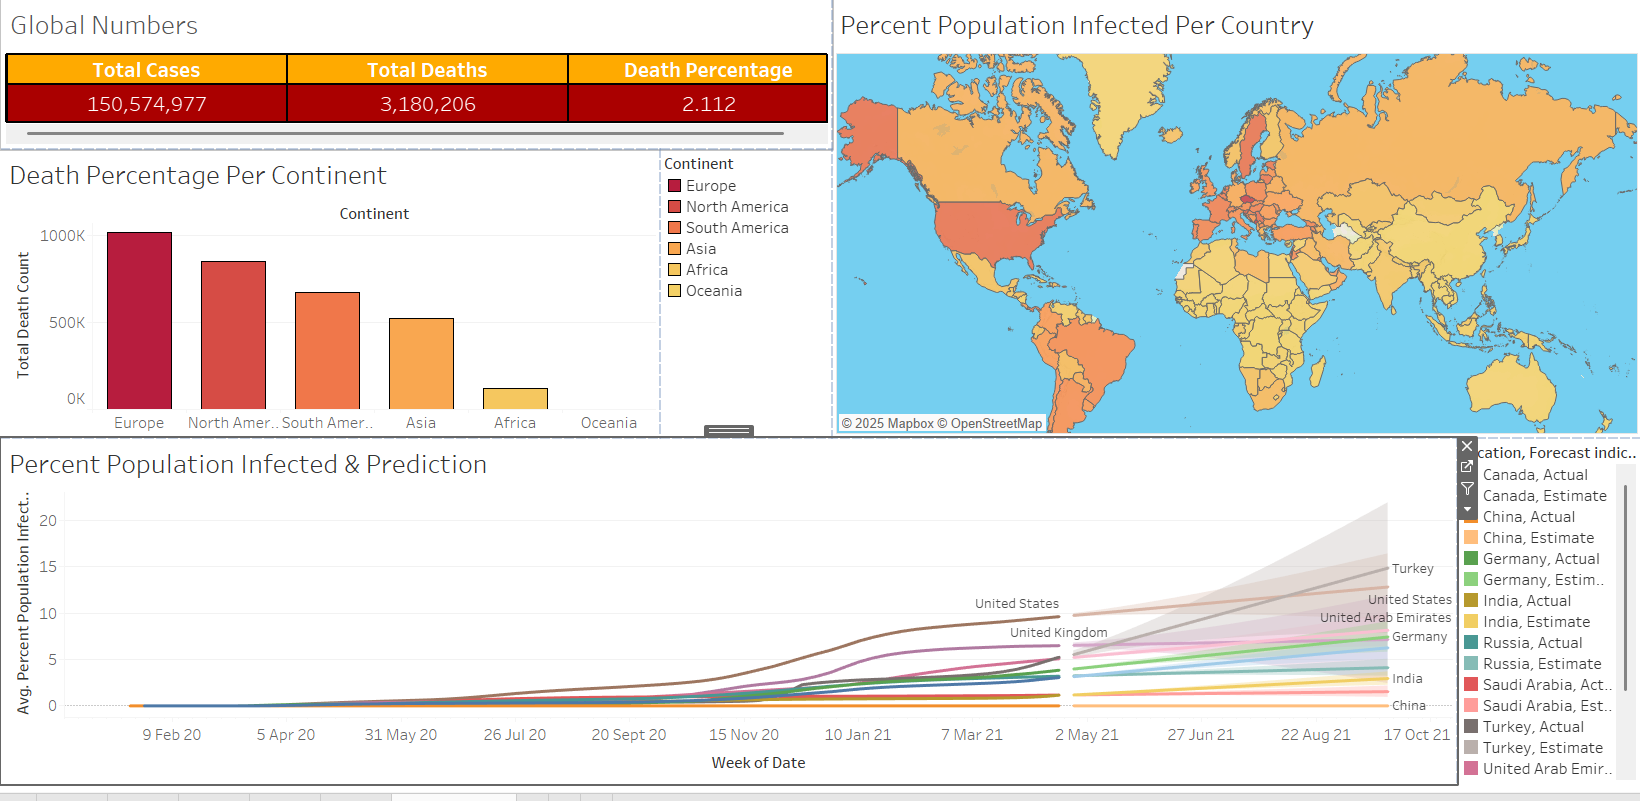

Layout of this report page (visuals, bound fields, positions):
{"tool":"tableau","page":{"name":"Dashboard 1","canvas":[1000,1000],"units":"permille","ordinal":0},"visuals":[{"type":"worksheet","title":"Sheet 1","mark":"Automatic","box":[4.8,10,501.3,187.3]},{"type":"worksheet","title":"Sheet 3","mark":"Automatic","box":[506.1,10,489,548.1]},{"type":"worksheet","title":"Sheet 2","mark":"Bar","rows":["TotalDeathCount"],"cols":["location"],"box":[4.8,197.2,397.8,360.8]},{"type":"legend","title":"Sheet 2","param":"[federated.1wnp79r00s0xa712j3z221juzgiv].[none:location:nk]","box":[402.6,197.2,103.5,360.8]},{"type":"worksheet","title":"Sheet 4","mark":"Line","rows":["PercentPopulationInfected"],"cols":["date"],"box":[4.8,558.1,878.5,432]},{"type":"legend","title":"Sheet 4","param":"[federated.1fvrg0v05wcl1f1b207b30vnu2o9].[none:Location:nk]\n[federated.1fvrg0v05","box":[883.3,558.1,111.9,432]}]}

Visuals, with their boxes on the dashboard's canvas, which has no fixed pixel size, in thousandths of its width and height (x1, y1, x2, y2). These are canvas units, not pixel positions in the 1640x801 screenshot, which may show the page scaled, cropped or inside an application window:
"Sheet 1" worksheet: x1=5, y1=10, x2=506, y2=197
"Sheet 3" worksheet: x1=506, y1=10, x2=995, y2=558
"Sheet 2" worksheet (Bar marks): x1=5, y1=197, x2=403, y2=558
"Sheet 2" legend: x1=403, y1=197, x2=506, y2=558
"Sheet 4" worksheet (Line marks): x1=5, y1=558, x2=883, y2=990
"Sheet 4" legend: x1=883, y1=558, x2=995, y2=990
